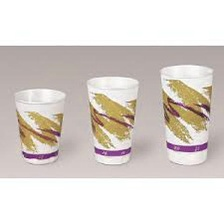paper_cup: (153, 59, 218, 170), (81, 72, 143, 168), (8, 83, 70, 168)
